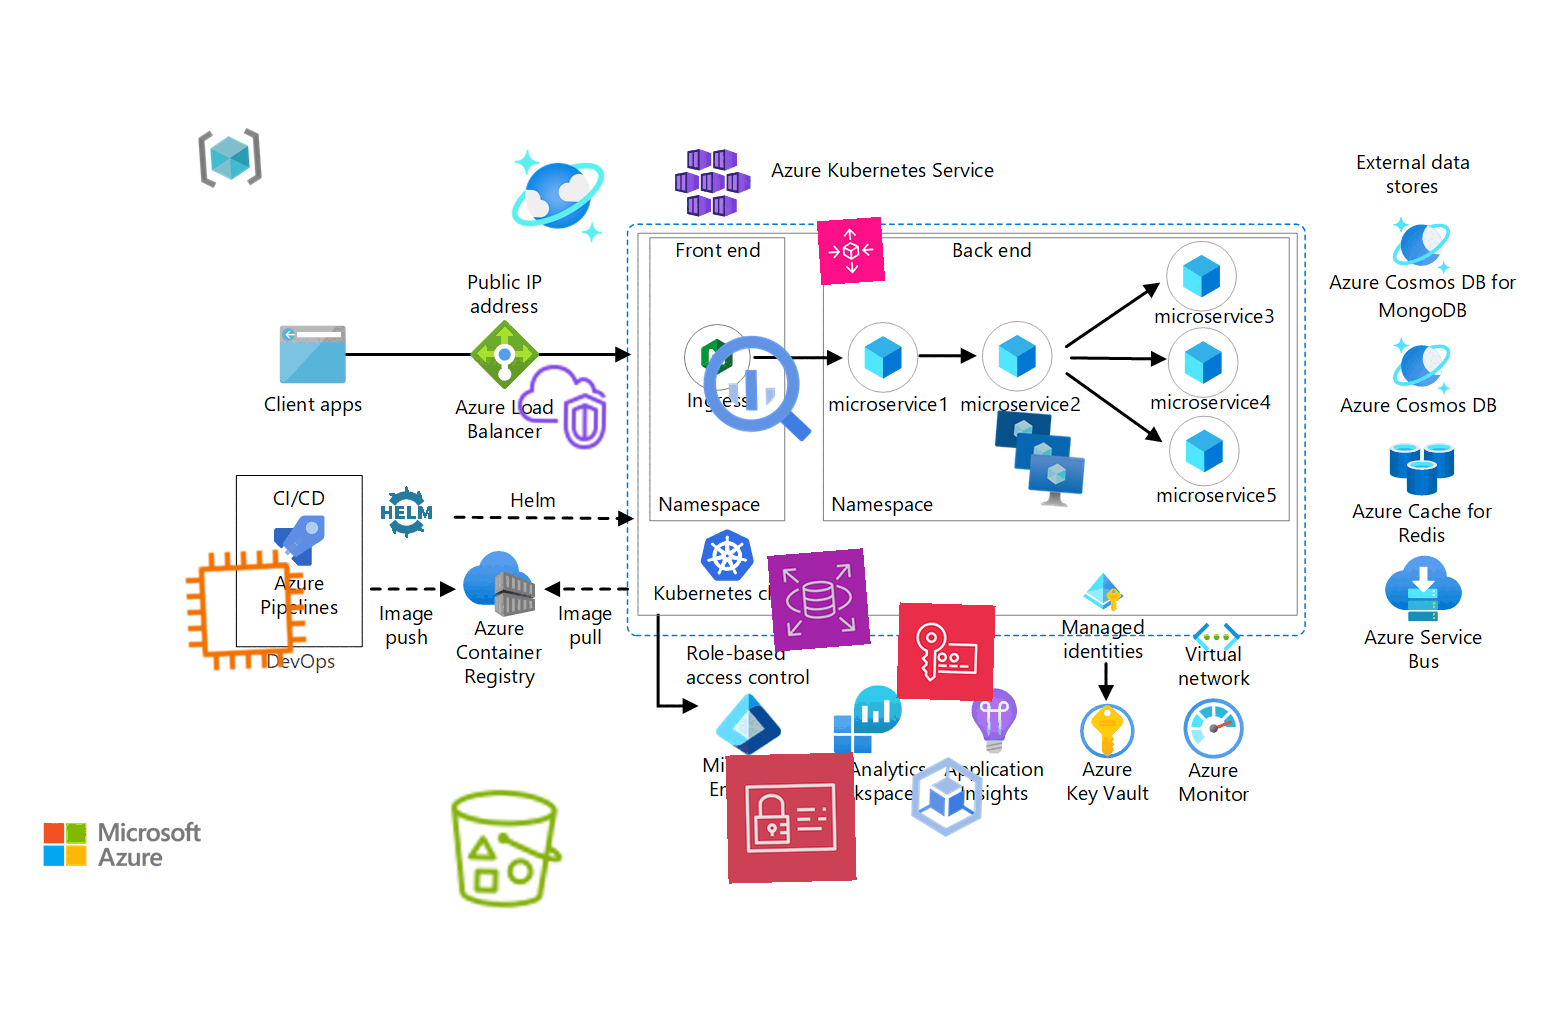aws_amazon_rds: (766, 548, 871, 652)
aws_auto_scaling: (816, 215, 886, 287)
aws_ec2_instance: (179, 543, 313, 677)
aws_identity_and_access_management: (725, 752, 857, 884)
aws_key_management_service: (896, 602, 996, 701)
aws_simple_storage_service_bucket_with_objects: (439, 782, 573, 916)
aws_vpc_virtual_private_cloud_vpc: (513, 358, 611, 456)
azure_cosmos_db: (508, 146, 608, 246)
azure_resource_groups: (195, 123, 265, 193)
azure_vm_scale_sets: (986, 405, 1090, 509)
gcp_bigquery: (691, 323, 823, 455)
gcp_google_kubernetes_engine: (897, 747, 997, 847)
